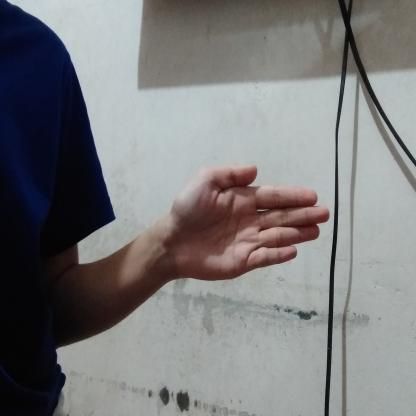ready: (152, 158, 334, 286)
